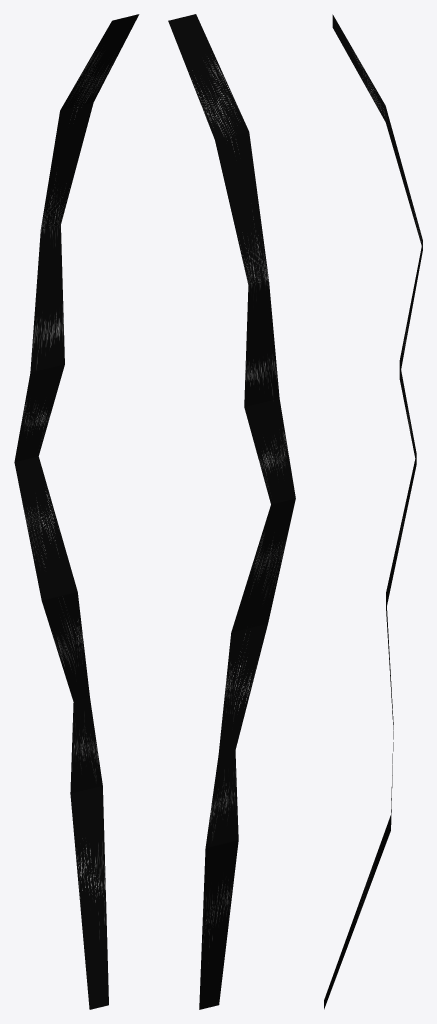
Rendered from Lightning.FBX.
The picture shows the model from 3 angles, left to right: view 1: azimuth 30°, elevation 25°; view 2: azimuth 210°, elevation 25°; view 3: azimuth 270°, elevation 25°; orthographic projection. The views are drawn at different scales.
Parts seen in each view (by area): view 1: SM_Lightning; view 2: SM_Lightning; view 3: SM_Lightning.
Boxes of the visible parts, x1,y1,x2,y2 form: SM_Lightning: [14, 14, 139, 1009]; SM_Lightning: [168, 14, 295, 1009]; SM_Lightning: [324, 14, 422, 1009].
Size of the model in its own units: 235 by 2623 by 235.
